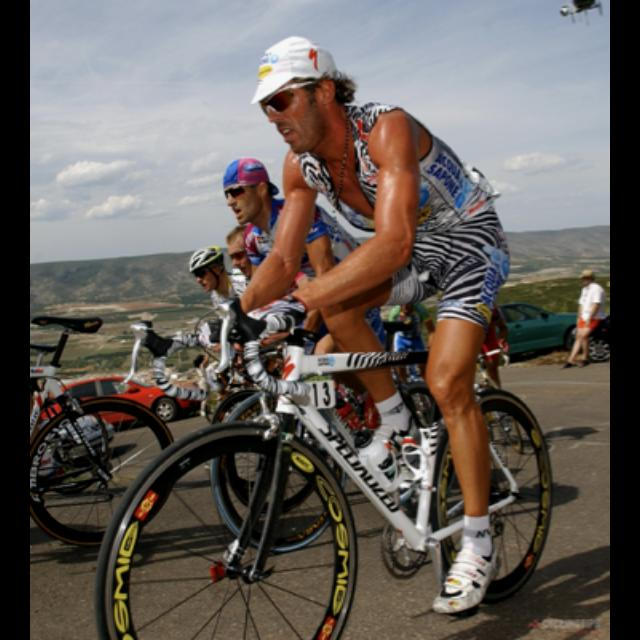With Helmet: (238, 36, 364, 150), (210, 158, 284, 230)
